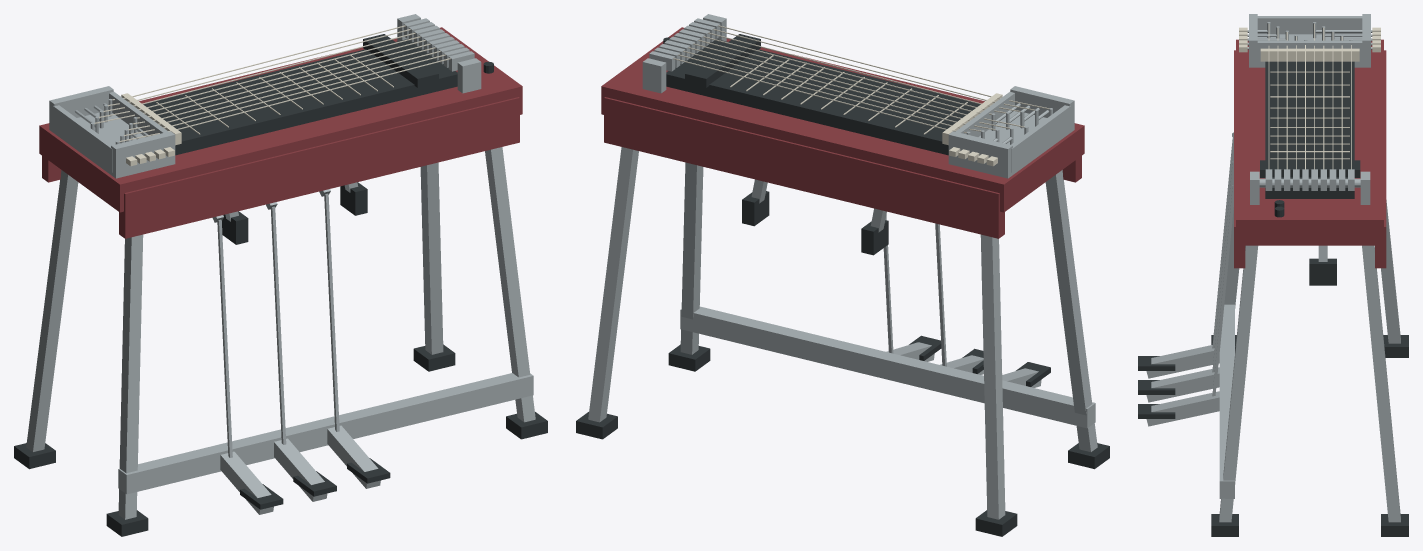
3 renders of one model, left to right at view 1: azimuth 30°, elevation 25°; view 2: azimuth 150°, elevation 25°; view 3: azimuth 270°, elevation 25°, orthographic. The views are drawn at different scales.
Parts seen in each view (by area): view 1: WholeDeepApron_Front, WholeLongConsoleBody, WholeRaisedLongStringDeck, WholeLowFrontPedalCrossbar, WholeSlopingLeg_LeftRear, WholeSlopingLeg_LeftFront, WholeSlopingLeg_RightFront, WholeSlopingLeg_RightRear, WholeTunerHeadEnd_Outer, WholePickupBlock, WholeTunerHeadFloor, WholeTunerHeadCheek_Front (+15 smaller); view 2: WholeDeepApron_Rear, WholeLongConsoleBody, WholeRaisedLongStringDeck, WholeLowFrontPedalCrossbar, WholeSlopingLeg_LeftRear, WholeSlopingLeg_RightRear, WholeSlopingLeg_LeftFront, WholeSlopingLeg_RightFront, WholeTunerHeadEnd_Outer, WholePickupBlock, WholeTunerHeadFloor, WholeTunerHeadCheek_Rear (+10 smaller); view 3: WholeLongConsoleBody, WholeRaisedLongStringDeck, WholeSlopingLeg_RightRear, WholeSlopingLeg_RightFront, WholeLowFrontPedalCrossbar, WholeTunerHeadEnd_Outer, WholeStringNut, WholeSlopingLeg_LeftRear, WholeProjectingFootPedal_2, WholePickupBlock, WholeProjectingFootPedal_1, WholeProjectingFootPedal_0 (+20 smaller).
Boxes of the visible parts, bbox=[...] form: WholeDeepApron_Front: bbox=[119, 97, 519, 238]; WholeLongConsoleBody: bbox=[39, 27, 522, 212]; WholeRaisedLongStringDeck: bbox=[143, 39, 457, 155]; WholeLowFrontPedalCrossbar: bbox=[118, 373, 533, 494]; WholeSlopingLeg_LeftRear: bbox=[26, 170, 78, 451]; WholeSlopingLeg_LeftFront: bbox=[118, 234, 143, 519]; WholeSlopingLeg_RightFront: bbox=[485, 147, 535, 422]; WholeSlopingLeg_RightRear: bbox=[420, 162, 443, 354]; WholeTunerHeadEnd_Outer: bbox=[52, 105, 112, 172]; WholePickupBlock: bbox=[363, 34, 438, 87]; WholeTunerHeadFloor: bbox=[49, 111, 175, 178]; WholeTunerHeadCheek_Front: bbox=[111, 131, 175, 174]; WholeDeepApron_Rear: bbox=[604, 97, 1004, 238]; WholeLongConsoleBody: bbox=[601, 27, 1084, 212]; WholeRaisedLongStringDeck: bbox=[666, 39, 980, 155]; WholeLowFrontPedalCrossbar: bbox=[680, 306, 1095, 428]; WholeSlopingLeg_LeftRear: bbox=[980, 234, 1005, 519]; WholeSlopingLeg_RightRear: bbox=[588, 147, 638, 422]; WholeSlopingLeg_LeftFront: bbox=[1045, 170, 1097, 451]; WholeSlopingLeg_RightFront: bbox=[680, 162, 703, 354]; WholeTunerHeadEnd_Outer: bbox=[1011, 105, 1071, 172]; WholePickupBlock: bbox=[685, 34, 760, 87]; WholeTunerHeadFloor: bbox=[948, 111, 1074, 178]; WholeTunerHeadCheek_Rear: bbox=[948, 131, 1012, 171]; WholeLongConsoleBody: bbox=[1236, 39, 1383, 245]; WholeRaisedLongStringDeck: bbox=[1265, 61, 1354, 198]; WholeSlopingLeg_RightRear: bbox=[1362, 245, 1400, 522]; WholeSlopingLeg_RightFront: bbox=[1219, 245, 1258, 522]; WholeLowFrontPedalCrossbar: bbox=[1219, 304, 1234, 498]; WholeTunerHeadEnd_Outer: bbox=[1257, 16, 1362, 34]; WholeStringNut: bbox=[1260, 48, 1359, 61]; WholeSlopingLeg_LeftRear: bbox=[1381, 200, 1400, 343]; WholeProjectingFootPedal_2: bbox=[1146, 391, 1219, 426]; WholePickupBlock: bbox=[1260, 160, 1360, 177]; WholeProjectingFootPedal_1: bbox=[1146, 367, 1219, 402]; WholeProjectingFootPedal_0: bbox=[1146, 345, 1219, 378].
Size of the model in its own units: 1.04 by 0.858 by 0.622.
